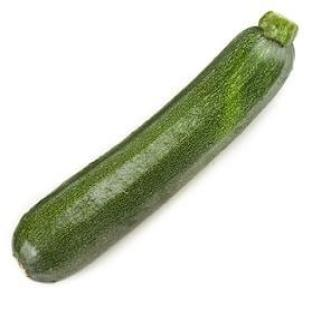Zucchini: (14, 12, 297, 281)
